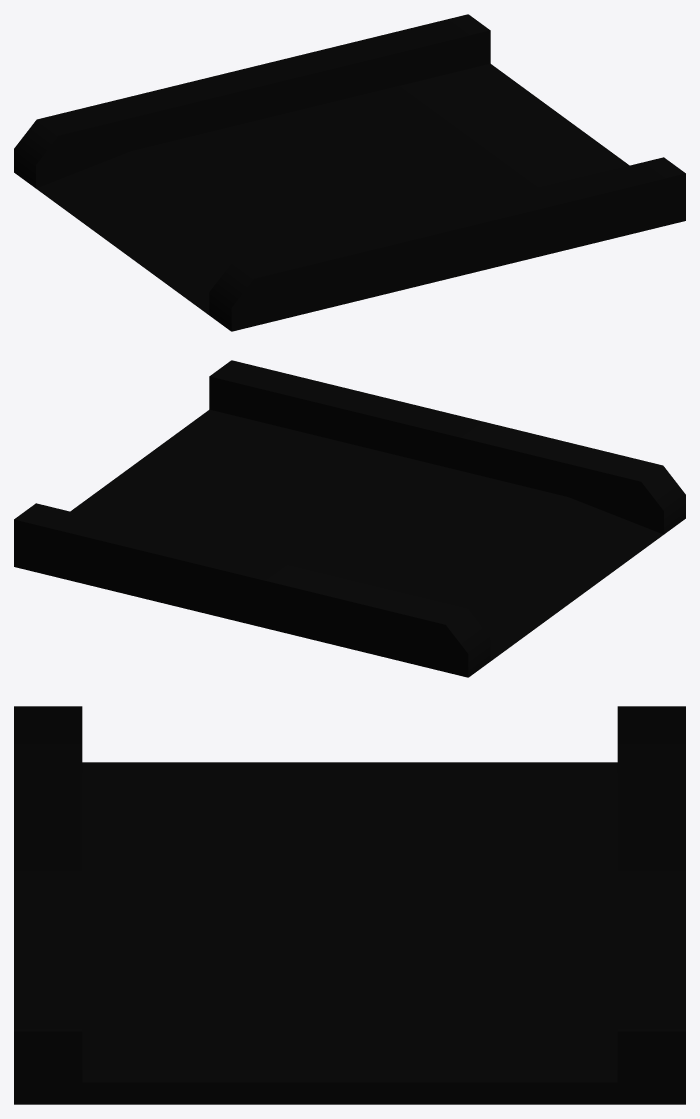
File: bridgedraw.glb
3 renders of one model, top to bottom at view 1: azimuth 30°, elevation 25°; view 2: azimuth 150°, elevation 25°; view 3: azimuth 270°, elevation 25°, orthographic. The views are drawn at different scales.
Visible parts, largest first — view 1: node_id4; view 2: node_id4; view 3: node_id4.
Boxes of the visible parts, left/top/right/bottom form: node_id4: left=14, top=14, right=685, bottom=331; node_id4: left=14, top=360, right=685, bottom=677; node_id4: left=14, top=706, right=685, bottom=1104.
Size of the model in its own units: 0.512 by 0.0511 by 0.4246.
Materials: 1 (1 with a texture image).
